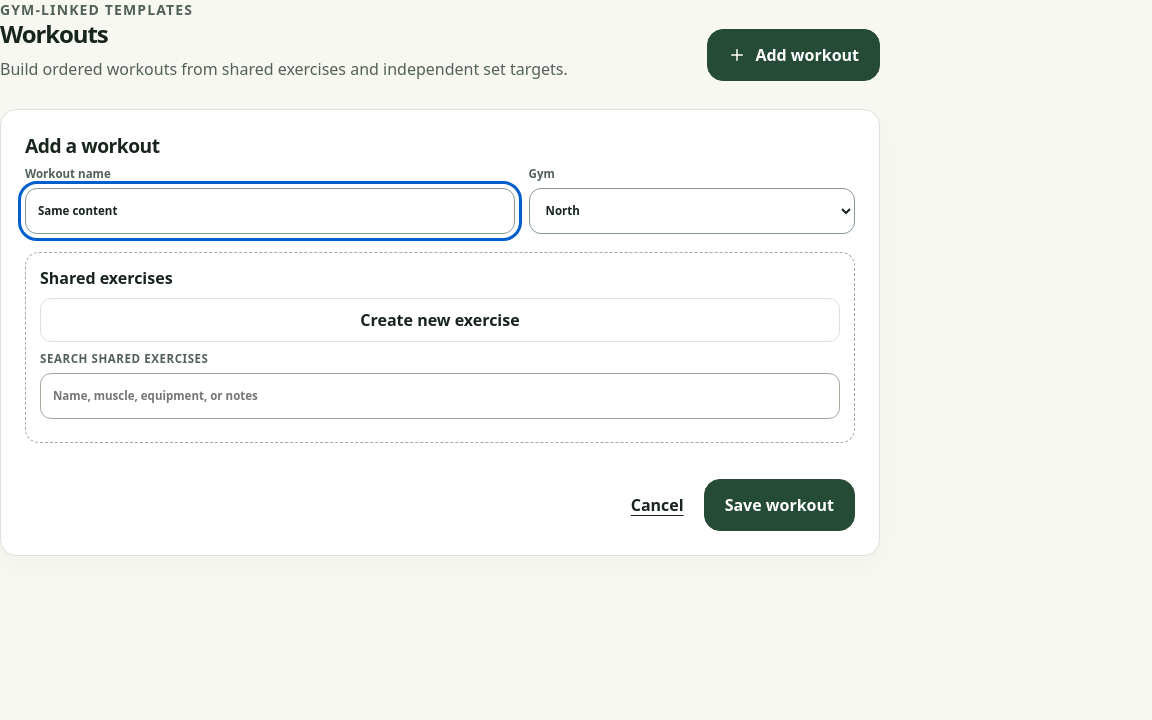
Scenario: failed discard keeps a recoverable draft and permits explicit retry
Click the button "Cancel": (657, 505) [623,483,692,527]
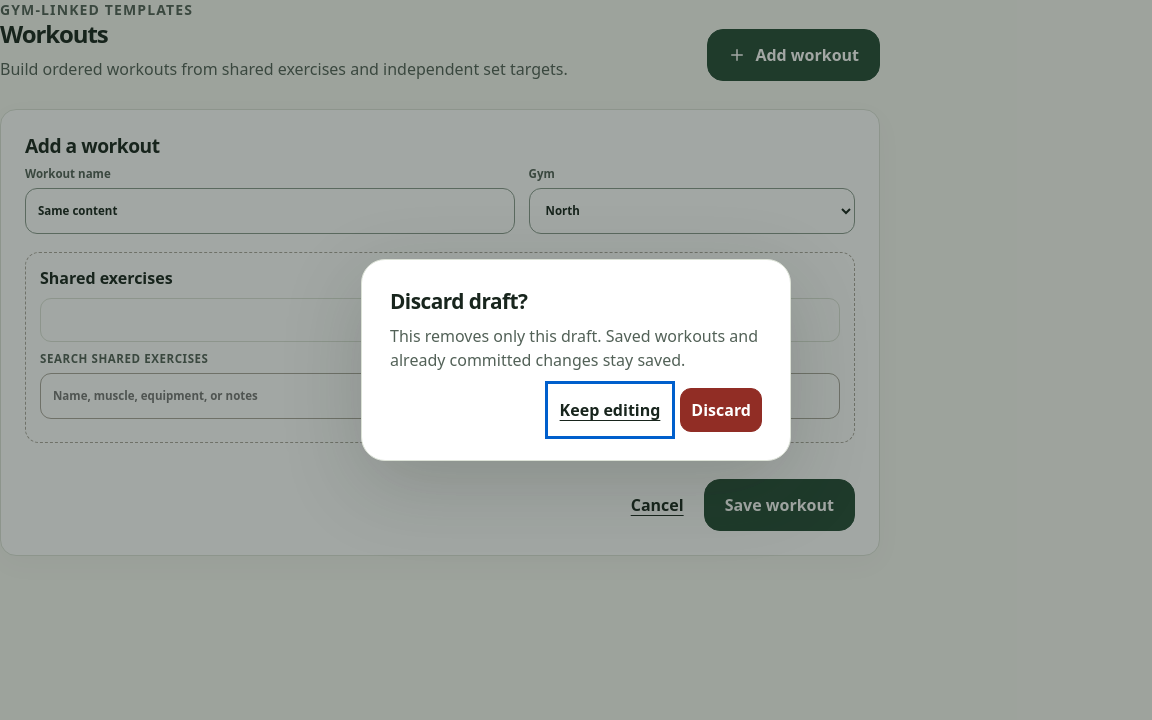
Click the button "Discard": (721, 410) [680,388,762,432]
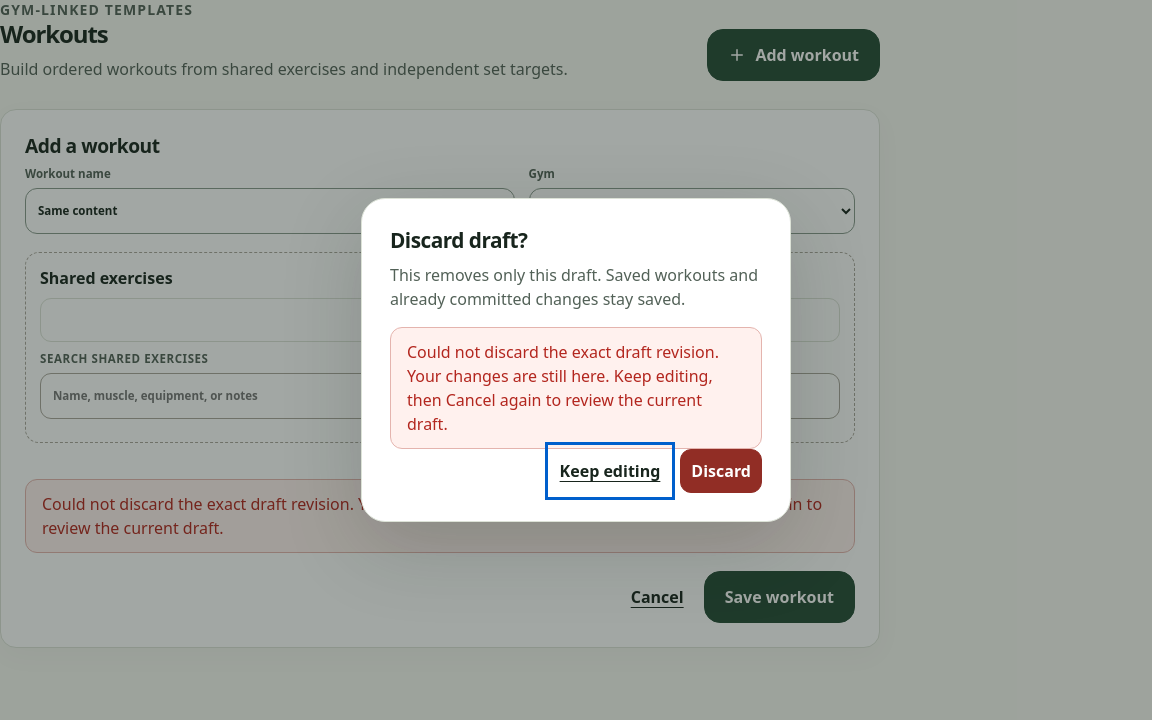
Check: the message shows "Your changes are still here", box [407,340,719,434]
Click the button "Keep editing": (610, 470) [552,448,668,492]
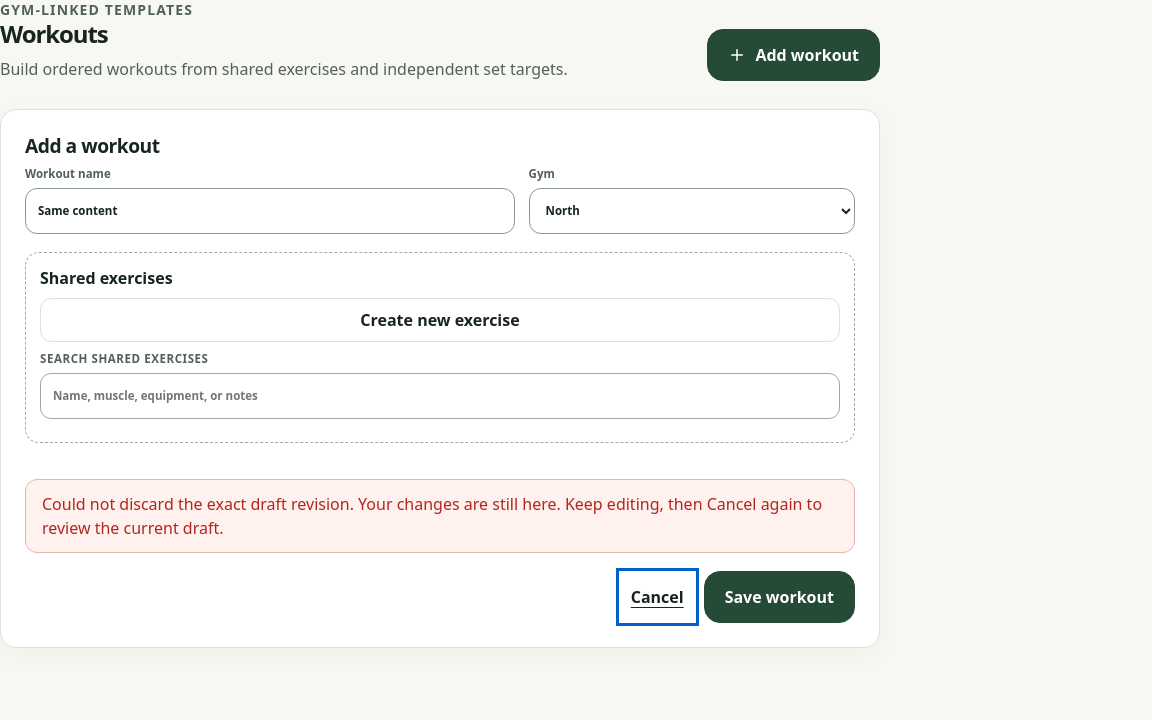
Check: the field labelled "Workout name" holds "Same content", box [25,188,515,234]
Click the button "Cancel": (657, 597) [623,575,692,619]
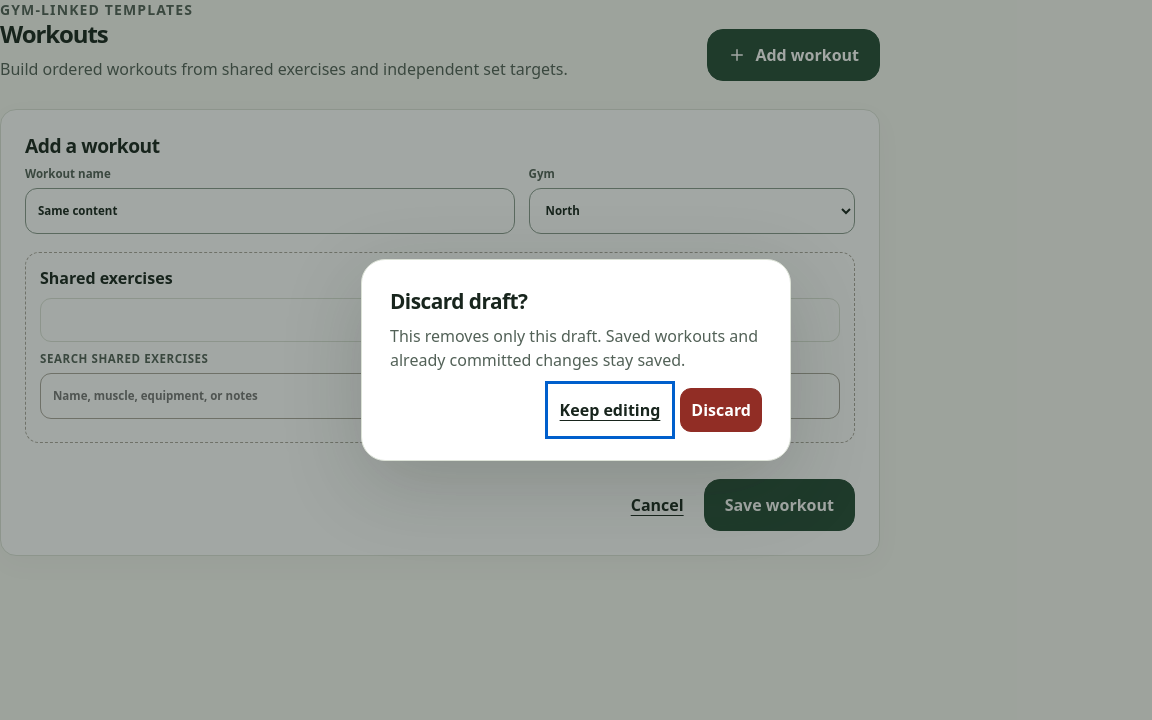
Click the button "Discard": (721, 410) [680,388,762,432]
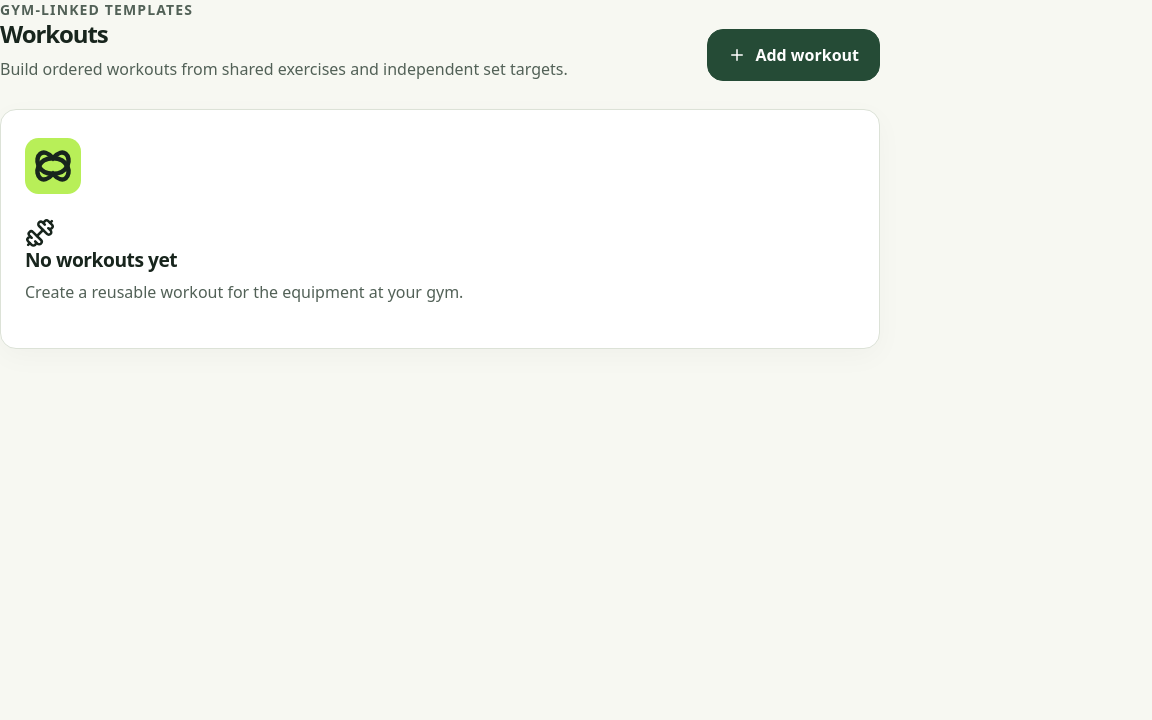
Check: the label labelled "Workout name" is gone
